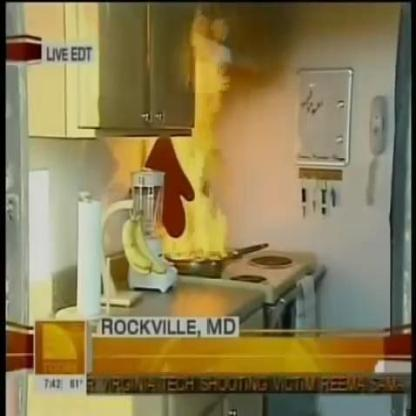fire: (162, 13, 230, 263)
